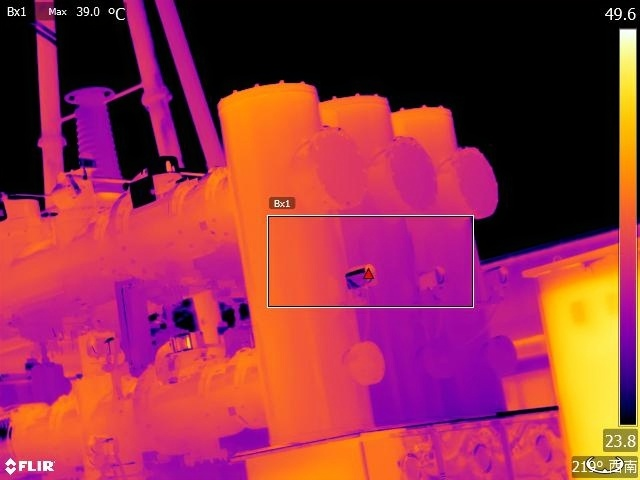tube: (68, 82, 131, 198)
